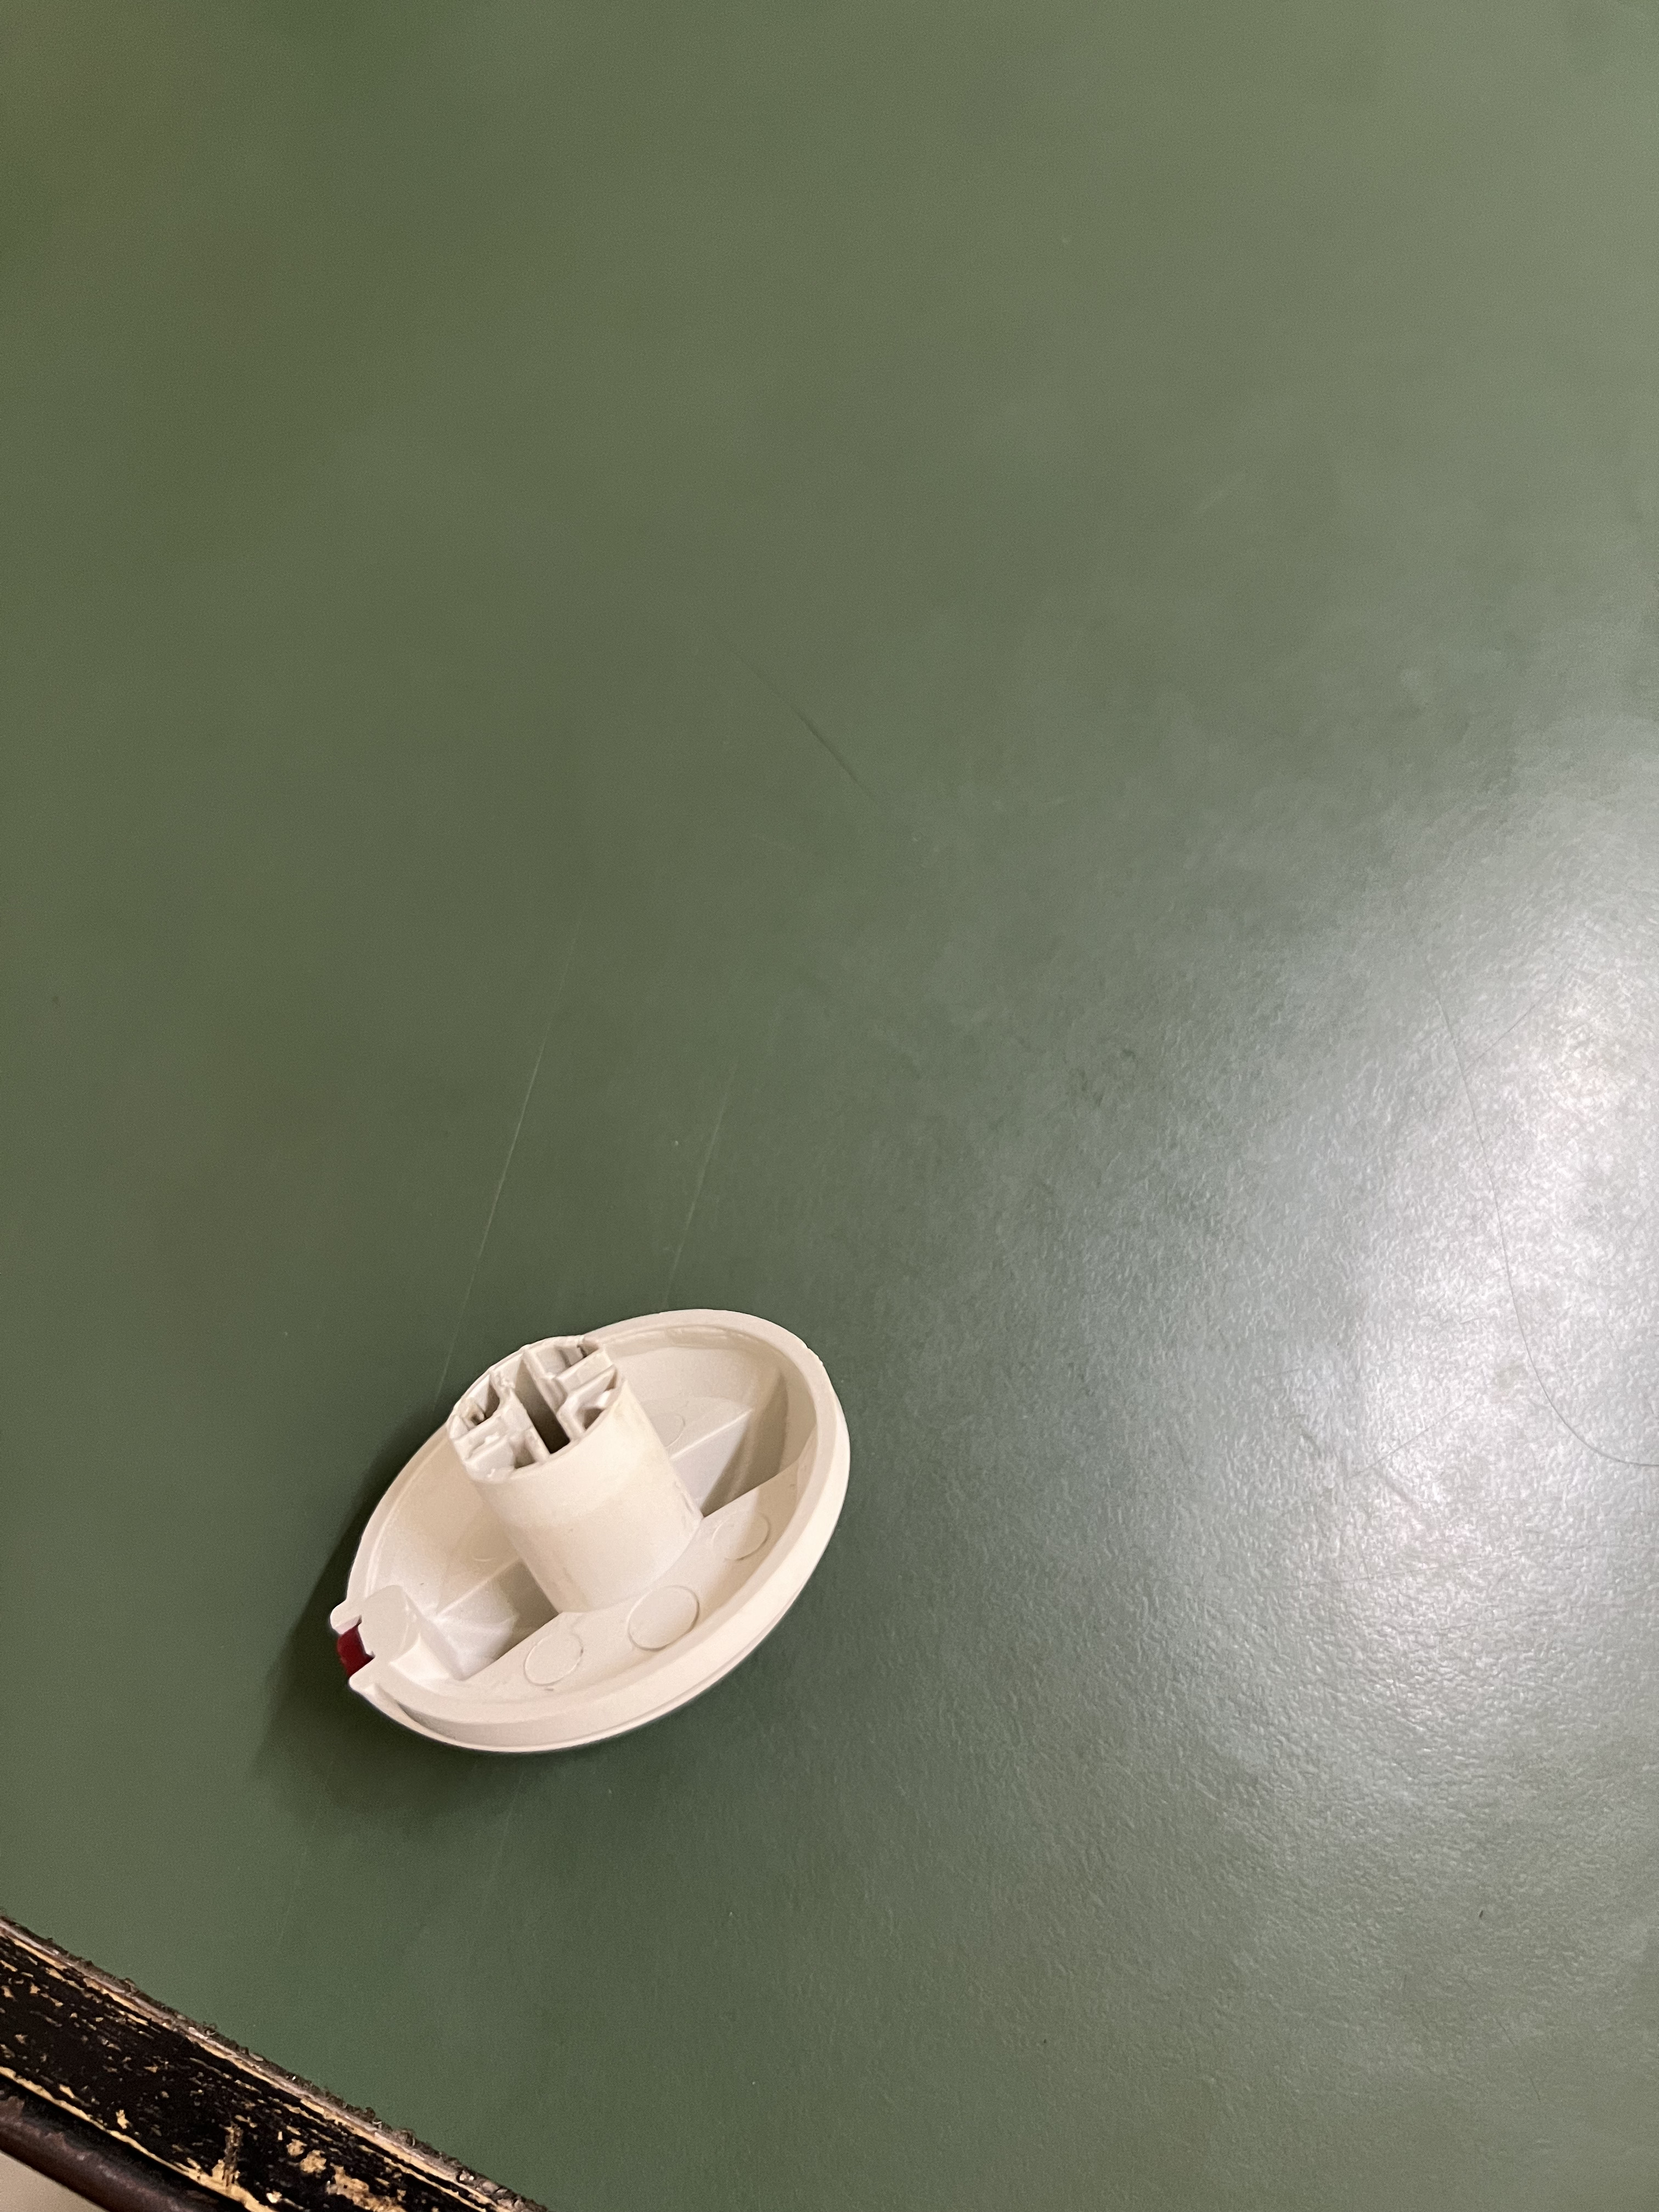regulator: (319, 1294, 823, 1770)
